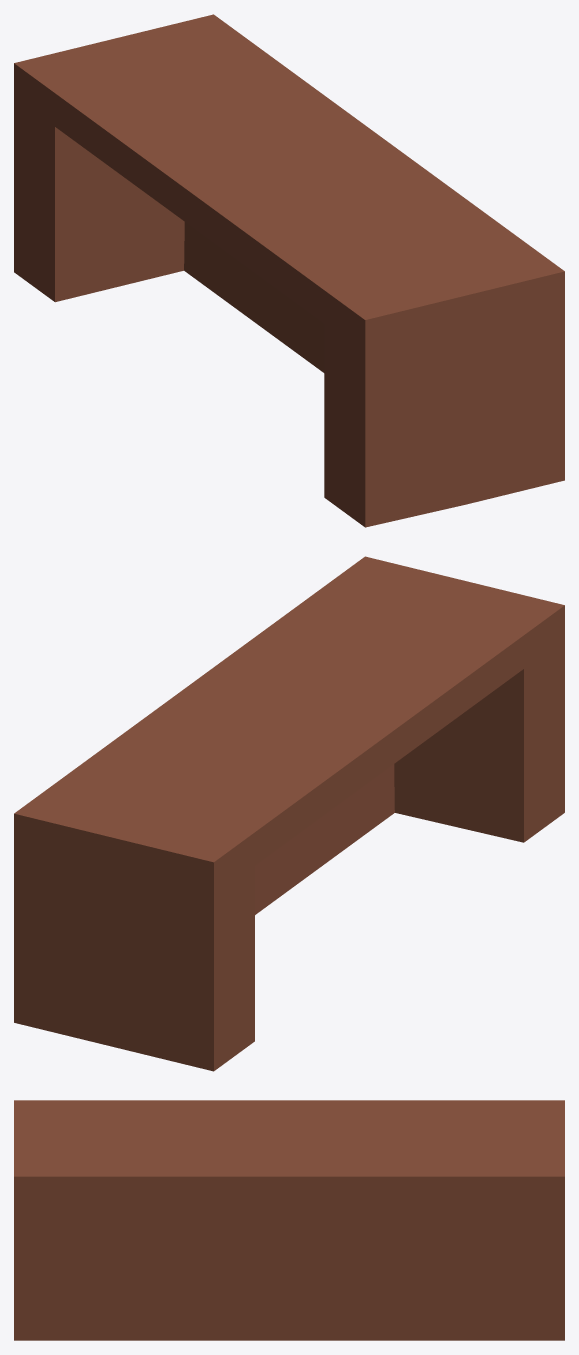
File: Desk_Pass1.fbx
3 views of the same model, one above another, from view 1: azimuth 30°, elevation 25°; view 2: azimuth 150°, elevation 25°; view 3: azimuth 270°, elevation 25° (orthographic). The views are drawn at different scales.
Parts seen in each view (by area): view 1: Cube.001; view 2: Cube.001; view 3: Cube.001.
Part boxes in pixels (<box>): Cube.001: <box>14,14,564,527</box>; Cube.001: <box>14,556,564,1071</box>; Cube.001: <box>14,1100,564,1340</box>.
Bounding box in the file's own units: 4.16 × 4.16 × 12.67.
